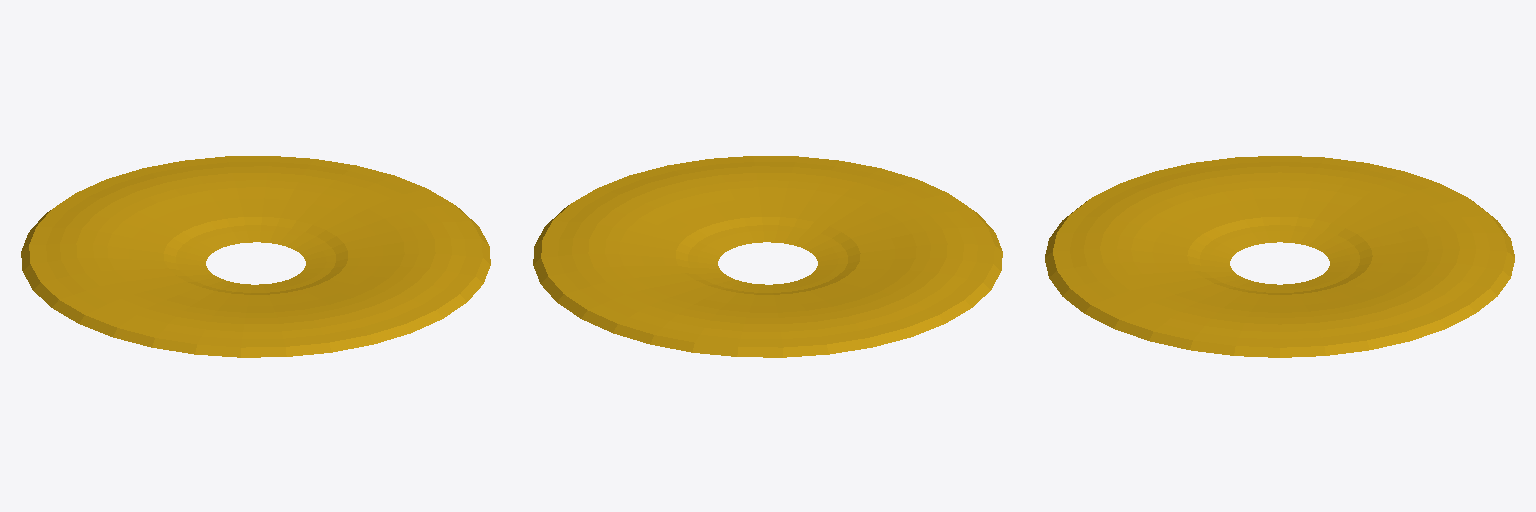
Rendered from meja3-4.obj.
3 renders of one model, left to right at view 1: azimuth 30°, elevation 25°; view 2: azimuth 150°, elevation 25°; view 3: azimuth 270°, elevation 25°, orthographic.
Visible parts, largest first — view 1: Cube.007_Cube.374_Cube.007_Cube.001; view 2: Cube.007_Cube.374_Cube.007_Cube.001; view 3: Cube.007_Cube.374_Cube.007_Cube.001.
Part boxes in pixels (x1,y1,x2,y2): Cube.007_Cube.374_Cube.007_Cube.001: (21,156,490,357); Cube.007_Cube.374_Cube.007_Cube.001: (533,156,1002,357); Cube.007_Cube.374_Cube.007_Cube.001: (1045,156,1514,357).
Bounding box in the file's own units: 2.98 × 0.1046 × 2.98.